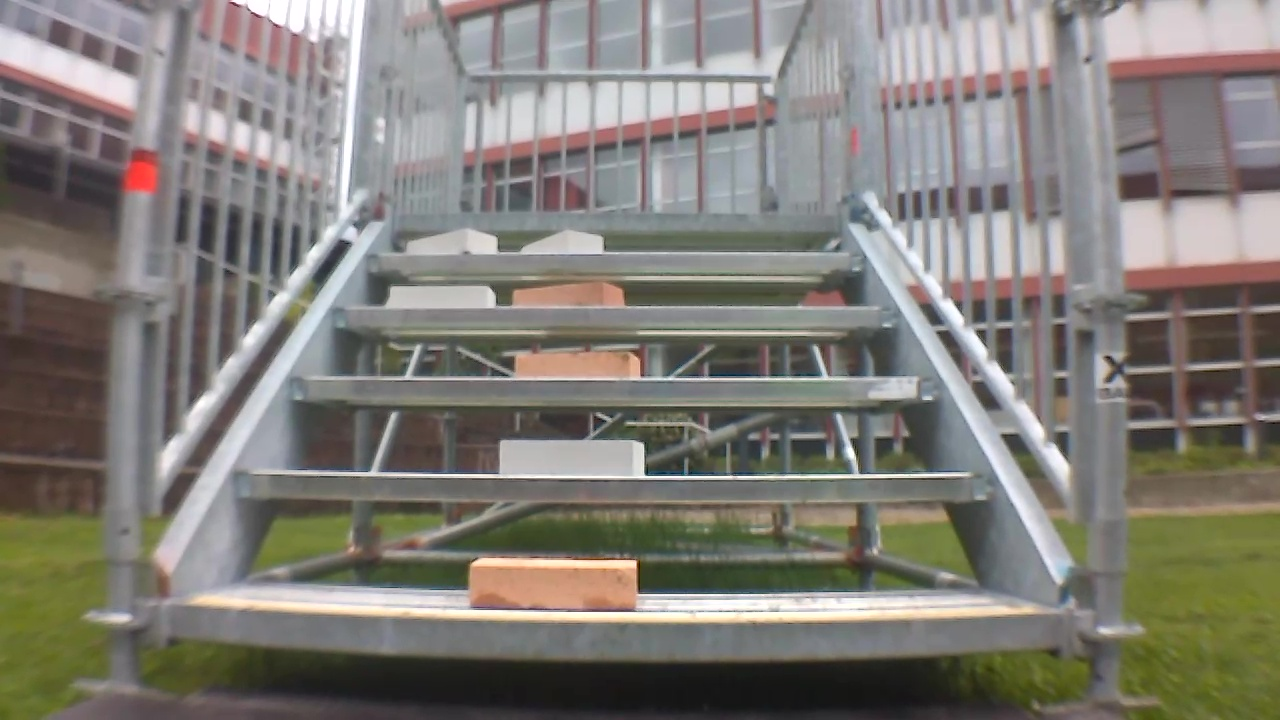brick: (471, 559, 635, 609), (500, 439, 644, 477), (516, 352, 641, 378), (512, 282, 623, 306), (406, 228, 498, 254), (391, 286, 495, 305), (519, 230, 601, 254)
edge: (169, 605, 1060, 659), (238, 472, 992, 503), (289, 376, 941, 401), (332, 305, 897, 325), (367, 252, 868, 272), (397, 214, 842, 231)
stairs: (84, 2, 1141, 701)
steps: (162, 209, 1065, 665)
